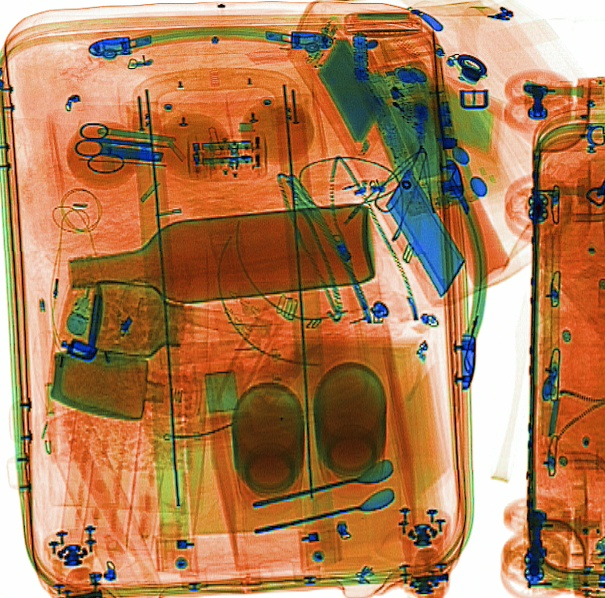scissors: (74, 120, 175, 157)
